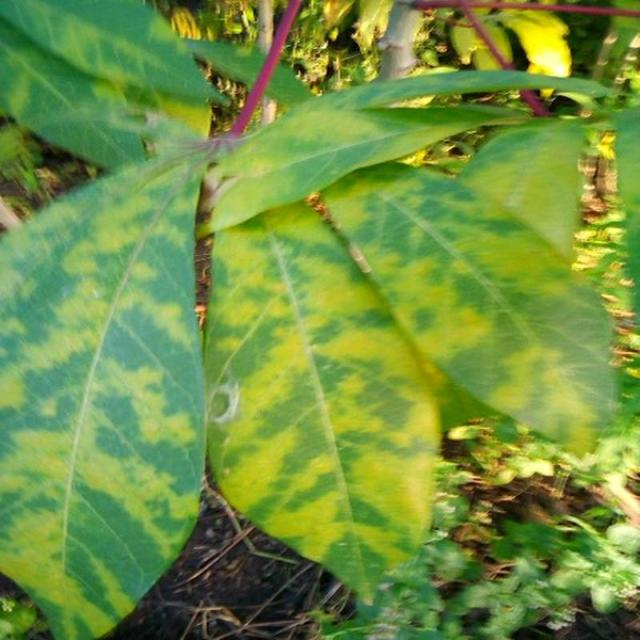cassava leaf: (202, 152, 621, 607), (0, 127, 209, 638), (0, 0, 226, 174)
